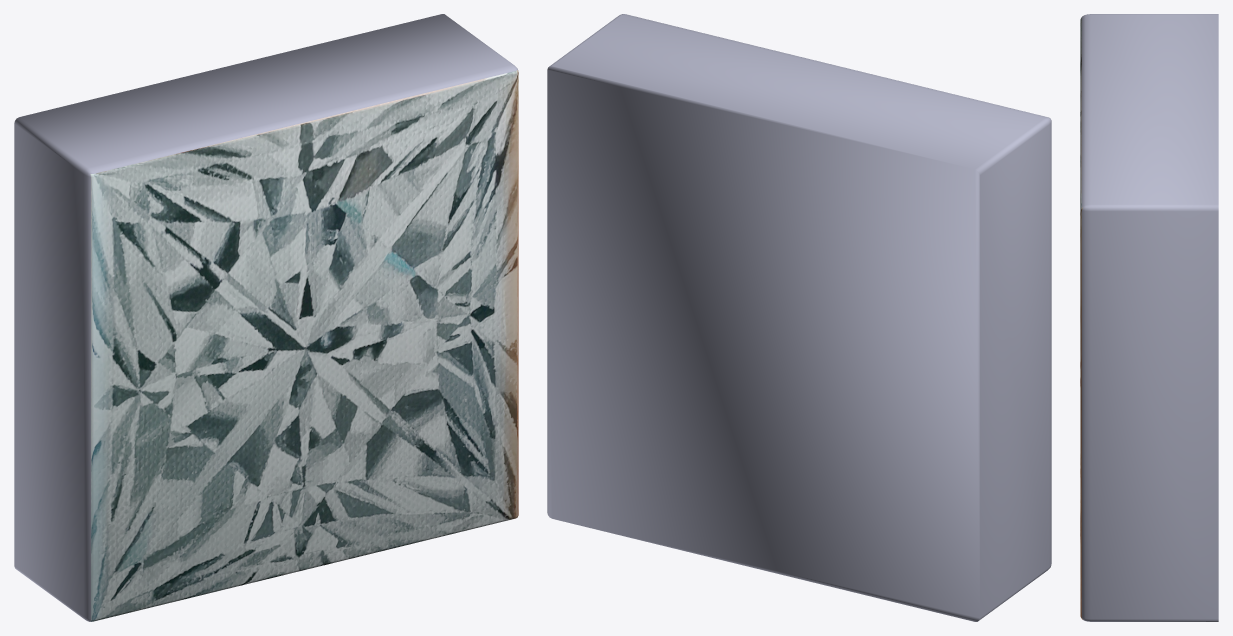
Rendered from judy.glb.
3 renders of one model, left to right at view 1: azimuth 30°, elevation 25°; view 2: azimuth 150°, elevation 25°; view 3: azimuth 270°, elevation 25°, orthographic. The views are drawn at different scales.
Parts seen in each view (by area): view 1: judy; view 2: judy; view 3: judy.
Boxes of the visible parts, x1,y1,x2,y2 form: judy: [14, 14, 518, 621]; judy: [547, 14, 1051, 621]; judy: [1080, 14, 1218, 621].
Size of the model in its own units: 0.1 by 0.1 by 0.03.
Materials: 2 (1 with a texture image).
